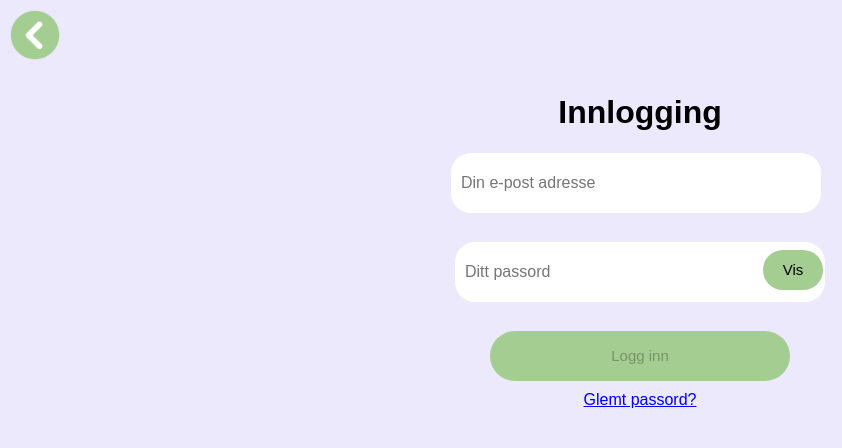
Test: Login form › displays error message for invalid email address
The image size is (842, 448).
Type "invalidemail" into the field named "email".
click(636, 183); type("invalidemail")  # box [451,153,821,213]
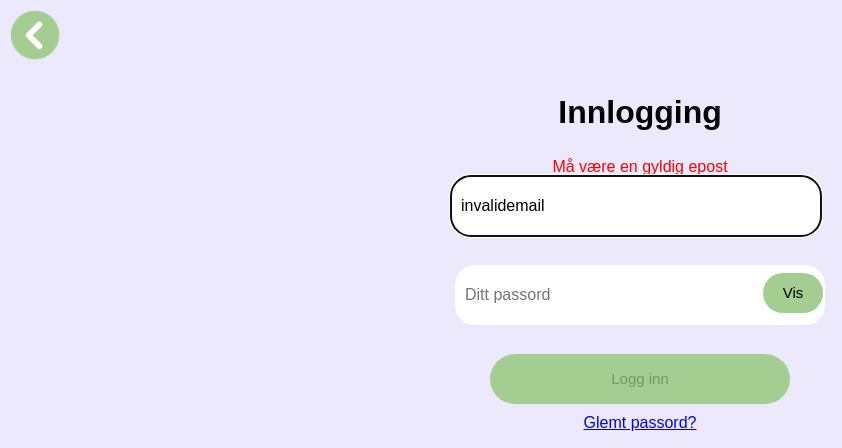
expect the text "Må være en gyldig epost" is shown: met, box [552,158,728,175]
